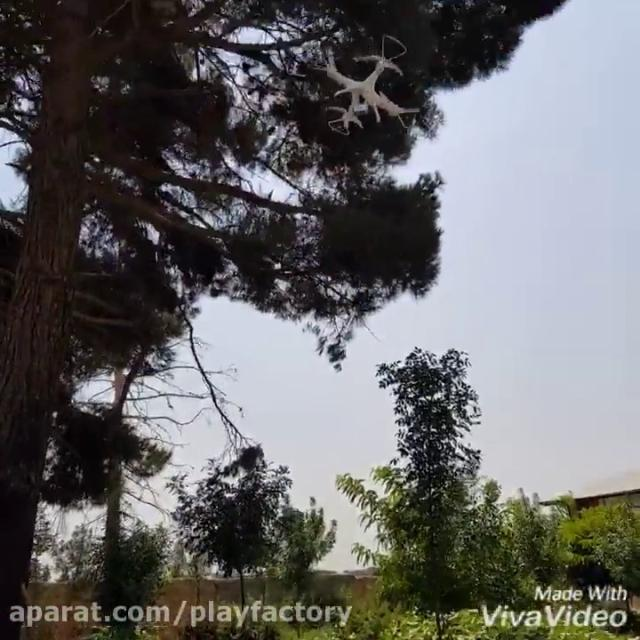drone: (313, 35, 421, 133)
